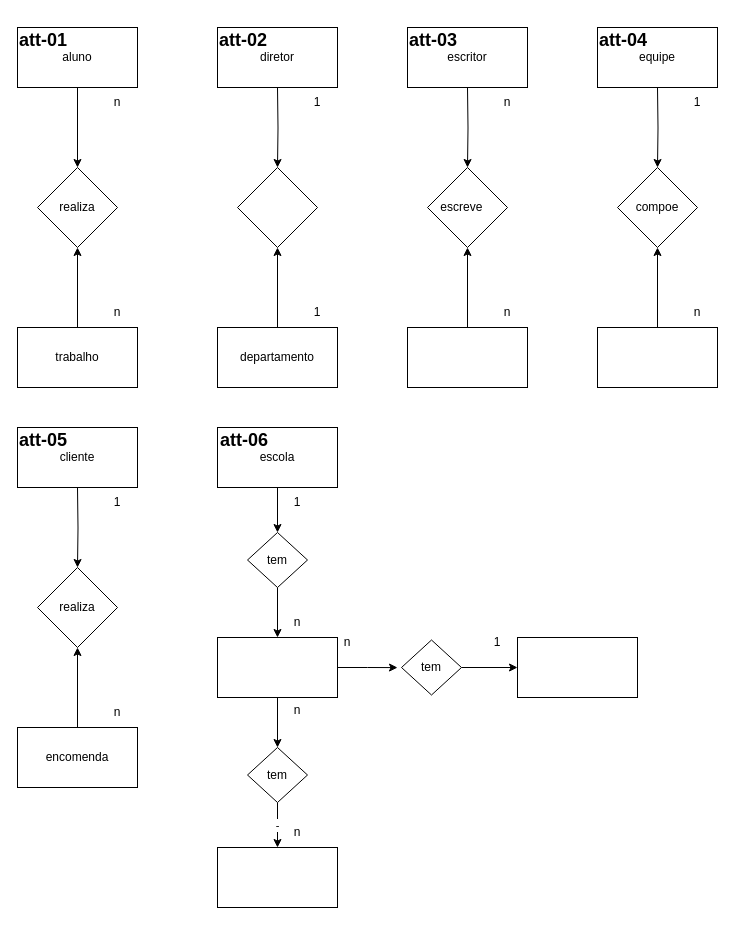
This 745x925 diagram has some shape labels left out. The shapes that lost their labels are listed below. From the top down, each one's centre as x and y in pixels, then its label:
At (x=277, y=207): "dirige".
At (x=467, y=357): "livro".
At (x=657, y=357): "jogador".
At (x=277, y=667): "turmas".
At (x=577, y=667): "sala".
At (x=277, y=877): "professores".
